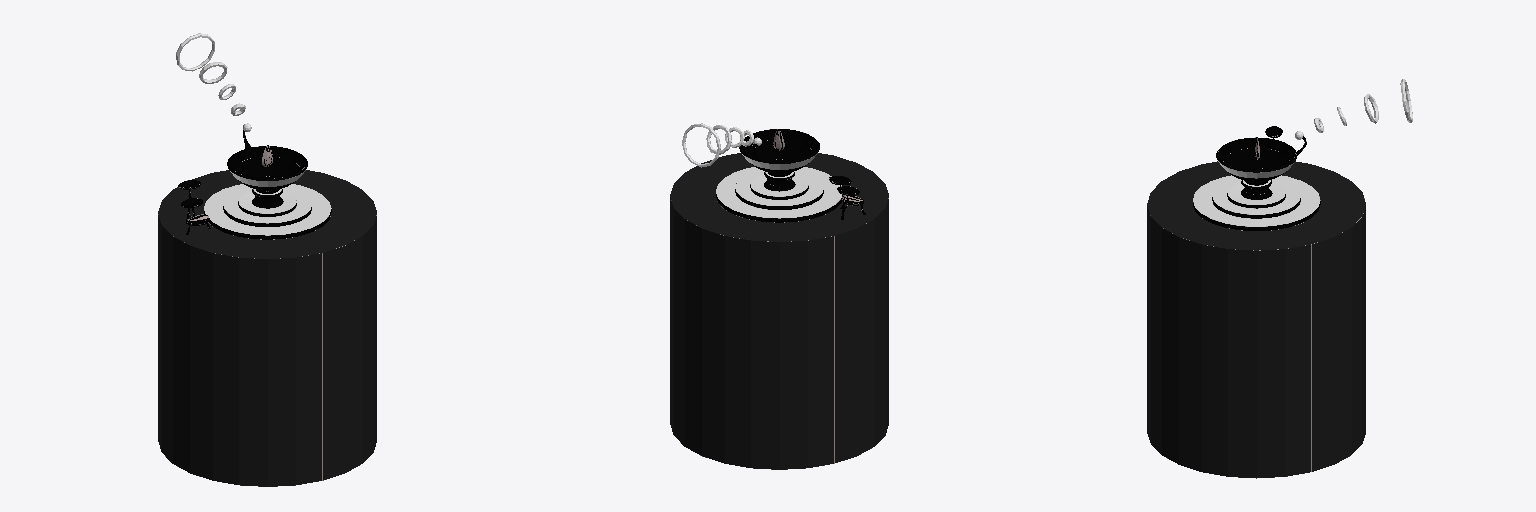
The model's file is SeeedSunflowerEsc.obj.
3 renders of one model, left to right at view 1: azimuth 30°, elevation 25°; view 2: azimuth 150°, elevation 25°; view 3: azimuth 270°, elevation 25°, orthographic.
Parts seen in each view (by area): view 1: Cylinder, Cylinder.001; view 2: Cylinder; view 3: Cylinder.
Boxes of the visible parts, box(x1,y1,x2,y2) form: Cylinder: box(158, 146, 376, 486); Cylinder.001: box(178, 180, 210, 234); Cylinder: box(670, 129, 888, 469); Cylinder: box(1147, 137, 1365, 478).
Bounding box in the file's own units: 15.17 × 26.89 × 18.39.